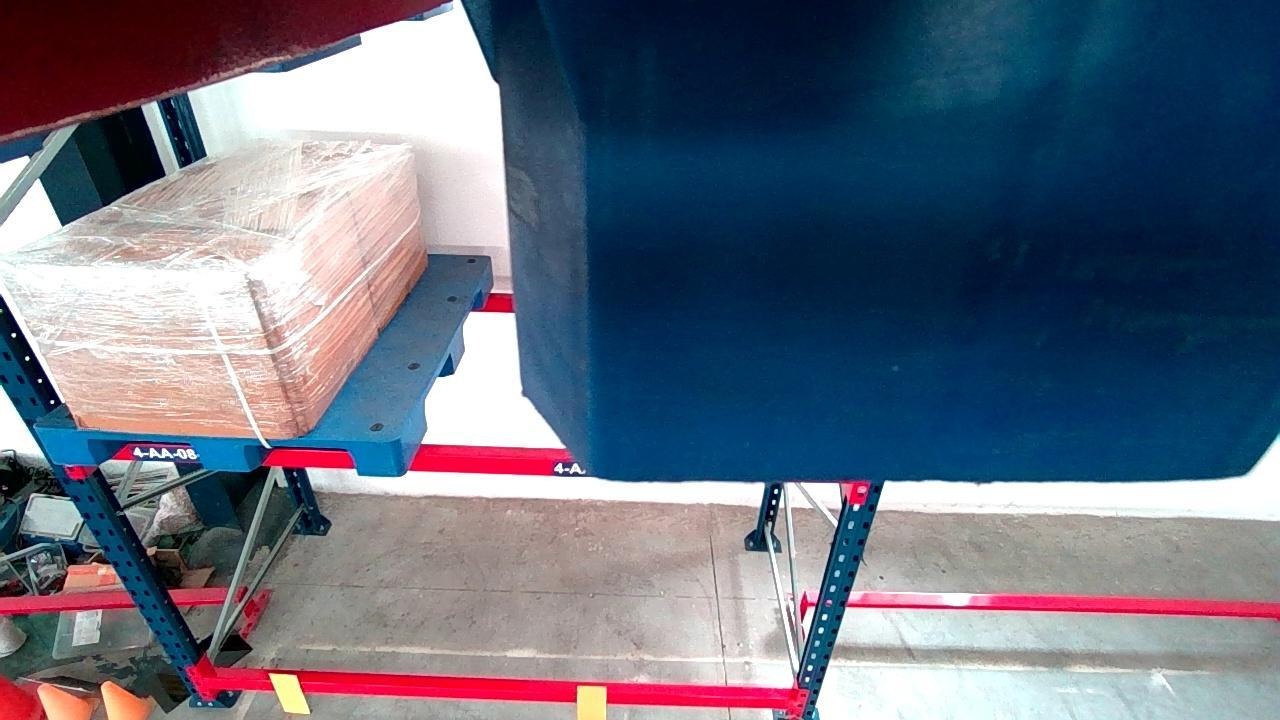h_rack: (205, 680, 790, 708), (118, 444, 575, 475)
orange_strip: (271, 674, 309, 712), (576, 686, 607, 719)
small_pallet: (34, 427, 399, 474)
